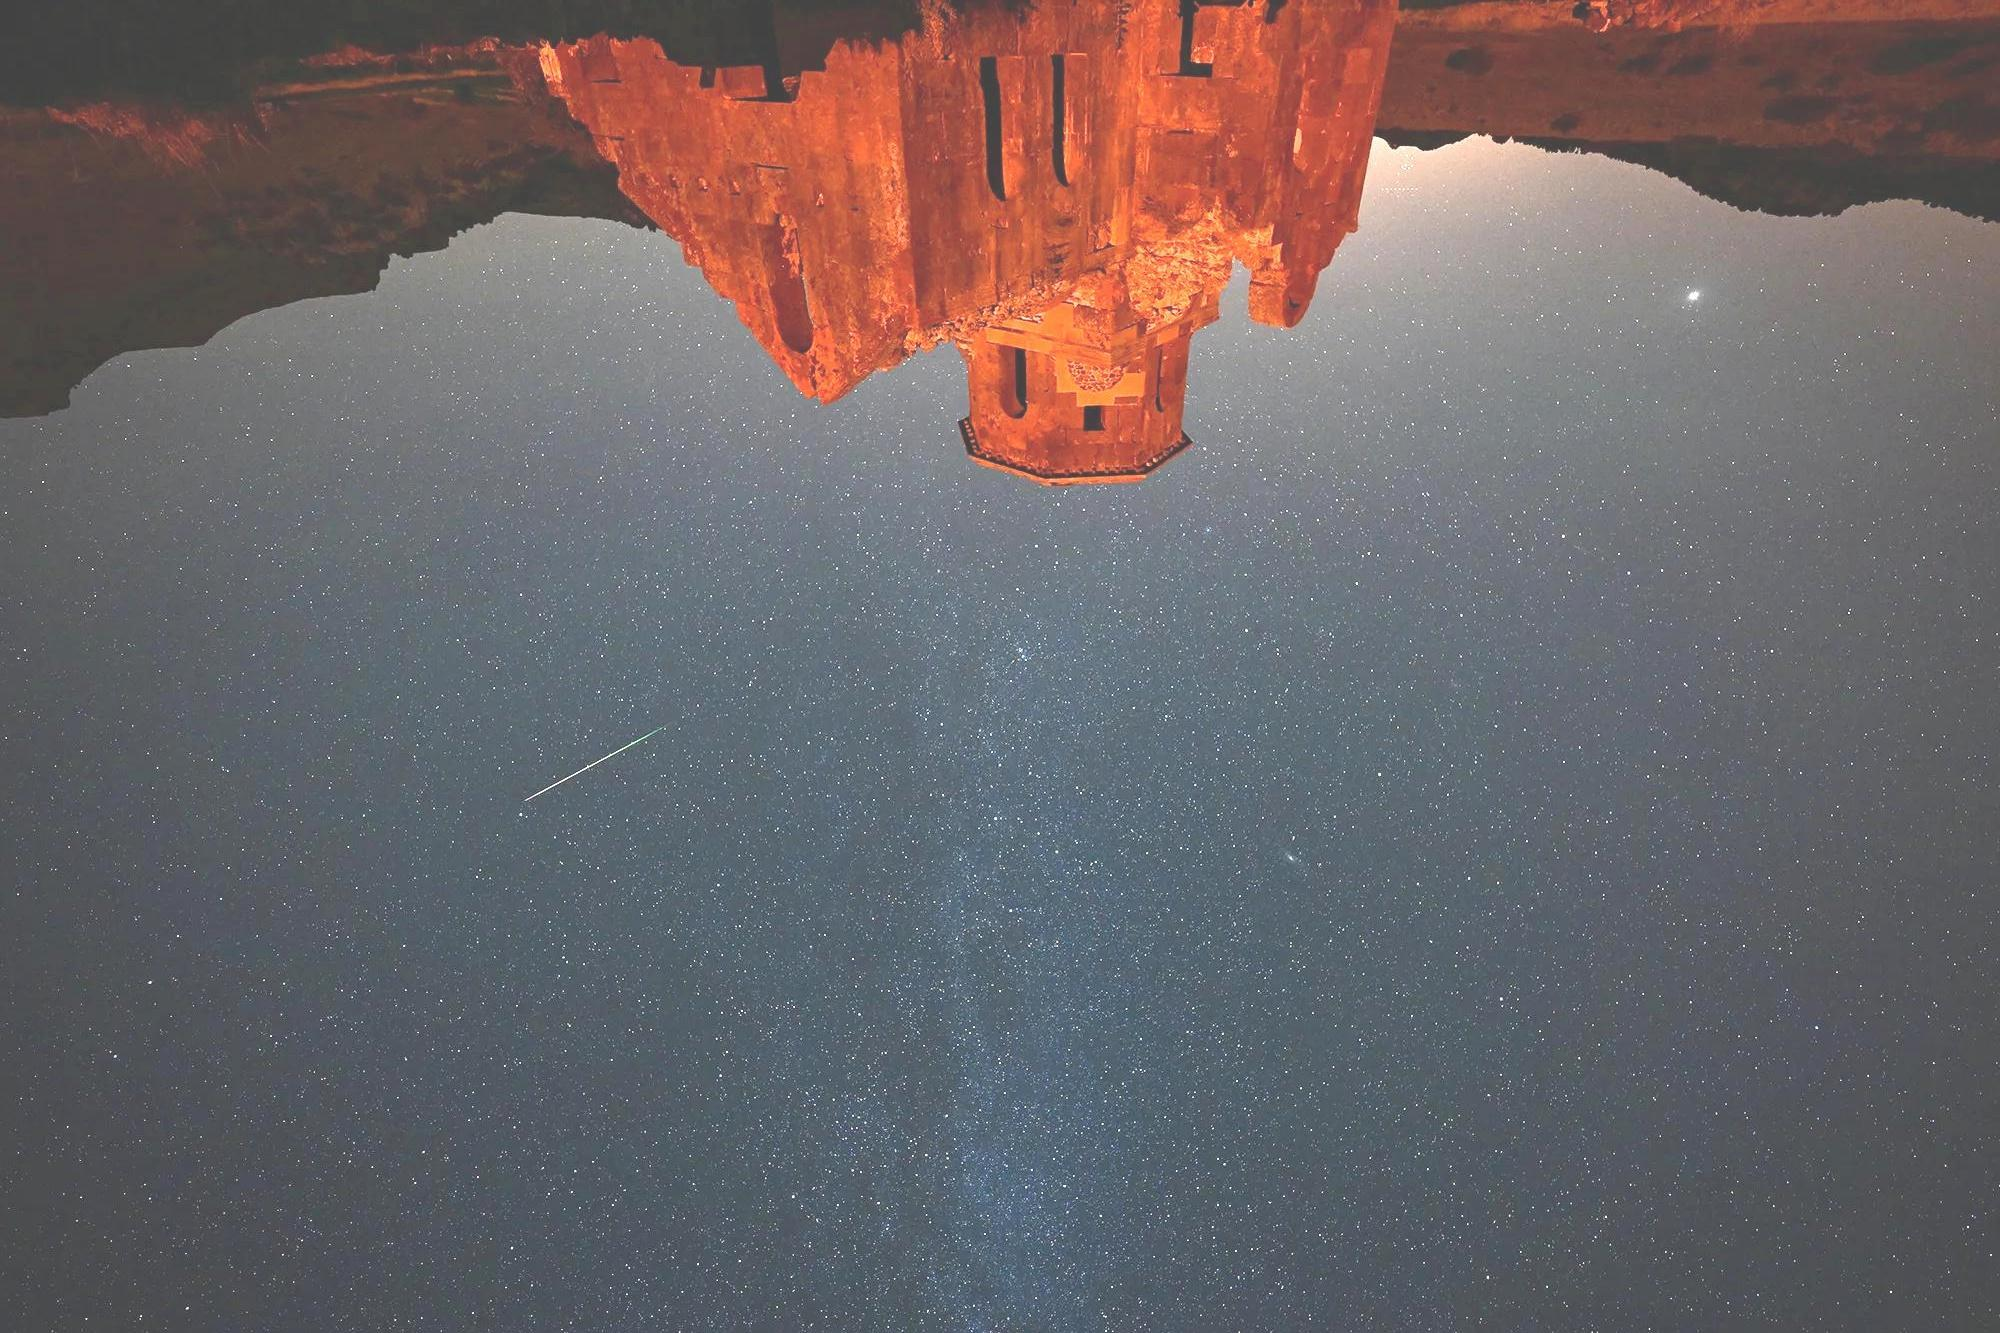meteorite: (495, 711, 688, 817)
